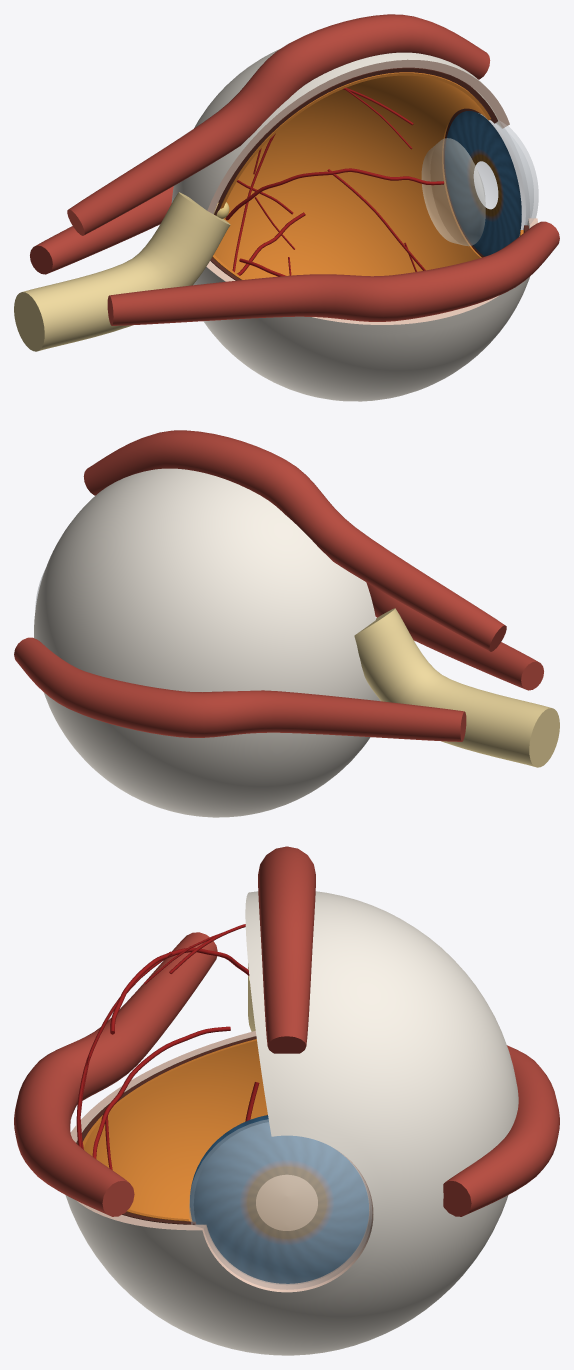
Rendered from eye.glb.
3 renders of one model, top to bottom at view 1: azimuth 30°, elevation 25°; view 2: azimuth 150°, elevation 25°; view 3: azimuth 270°, elevation 25°, orthographic. The views are drawn at different scales.
Parts seen in each view (by area): view 1: retina.001, sclera.001, muscle 1.57, muscle 0.00, optic nerve, iris.001, lens.001, muscle 4.71, cornea.001, choroid.001, vessel 1.34 1.05 2; view 2: sclera.001, muscle 4.71, muscle 0.00, optic nerve, muscle 1.57; view 3: sclera.001, cornea.001, retina.001, iris.001, muscle 1.57, muscle 0.00, muscle 4.71, lens.001, choroid.001, vessel 1.29 2.12 2, vessel 1.34 1.05 2, vessel 1.43 1.90 1.
Boxes of the visible parts, x1,y1,x2,y2 form: retina.001: [212, 72, 523, 279]; sclera.001: [171, 49, 537, 401]; muscle 1.57: [107, 221, 559, 325]; muscle 0.00: [67, 14, 490, 235]; optic nerve: [14, 192, 230, 351]; iris.001: [445, 111, 521, 256]; lens.001: [421, 138, 485, 246]; muscle 4.71: [30, 186, 173, 274]; cornea.001: [474, 114, 538, 229]; choroid.001: [210, 67, 528, 280]; vessel 1.34 1.05 2: [225, 168, 444, 220]; sclera.001: [34, 468, 380, 817]; muscle 4.71: [14, 637, 466, 741]; muscle 0.00: [83, 430, 506, 651]; optic nerve: [354, 608, 559, 767]; muscle 1.57: [366, 582, 543, 690]; sclera.001: [65, 891, 518, 1355]; cornea.001: [189, 1119, 371, 1289]; retina.001: [83, 1039, 317, 1230]; iris.001: [190, 1115, 368, 1283]; muscle 1.57: [14, 932, 217, 1216]; muscle 0.00: [258, 846, 315, 1053]; muscle 4.71: [443, 1045, 559, 1216]; lens.001: [256, 1175, 317, 1230]; choroid.001: [76, 1036, 256, 1224]; vessel 1.29 2.12 2: [92, 1026, 230, 1158]; vessel 1.34 1.05 2: [110, 947, 249, 1034]; vessel 1.43 1.90 1: [76, 951, 172, 1147].
Bounding box in the file's own units: 3.74 × 2.6 × 2.81.
